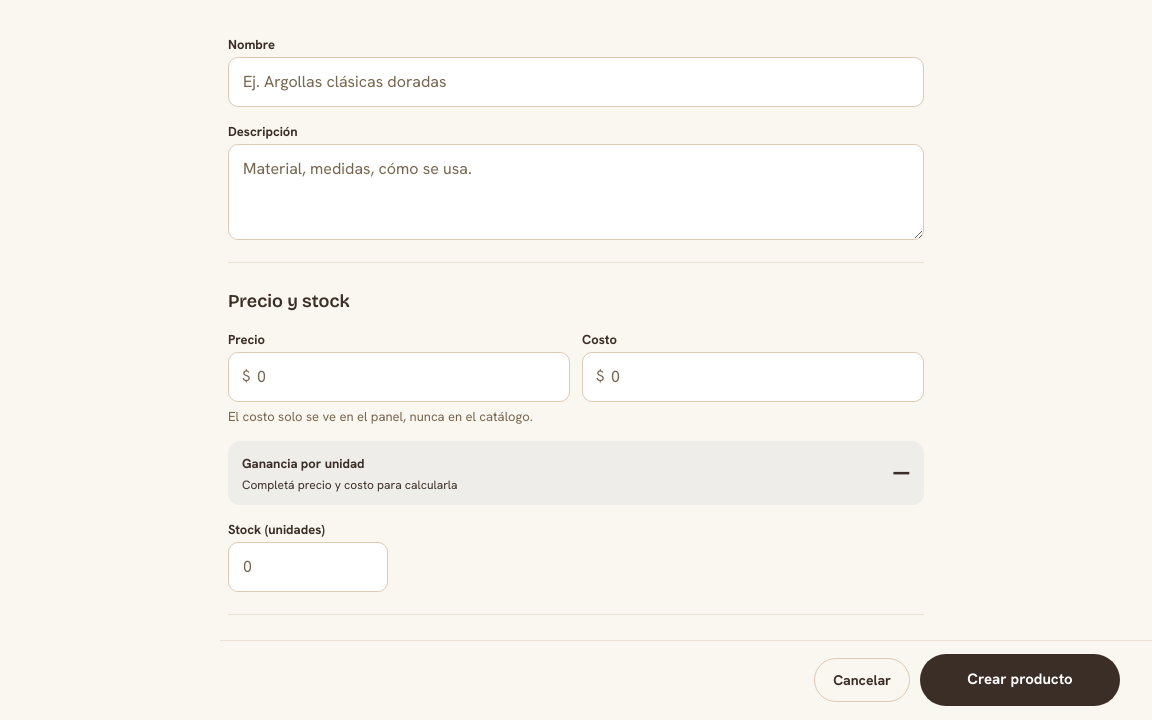
Test: ProductoFormPage › al crear vacío muestra los errores del prototipo y no guarda
Click the button "Crear producto".
click(1020, 680)  # box [920,654,1120,706]
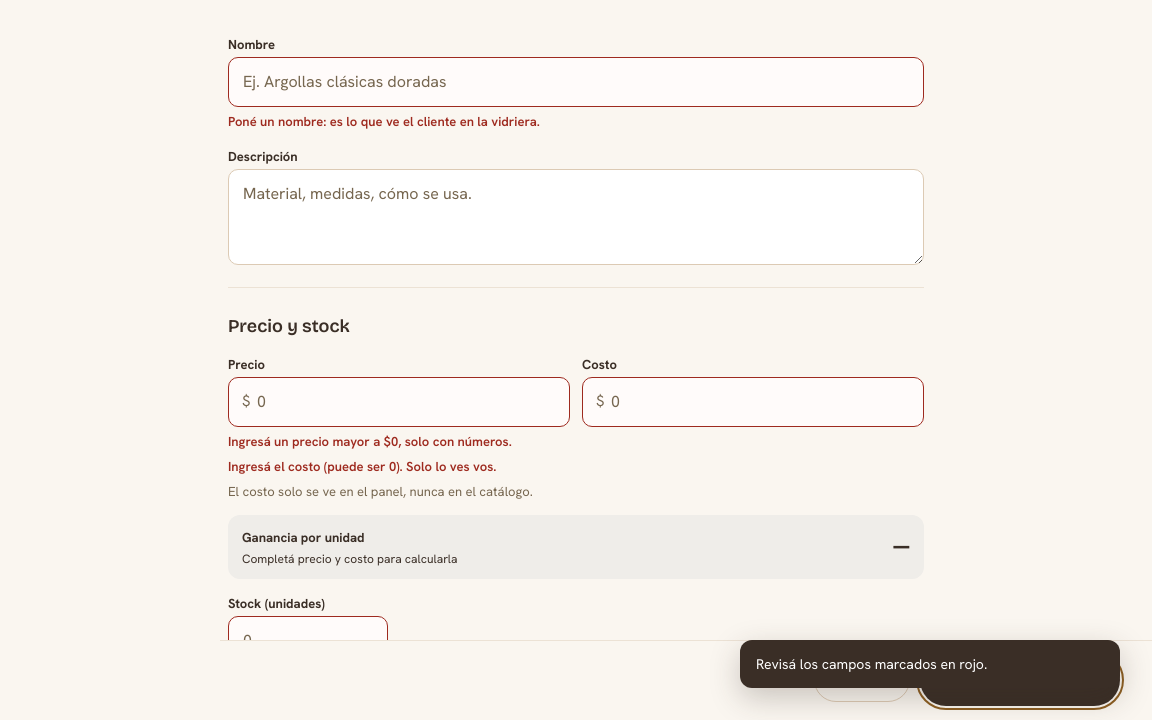
expect the text "Poné un nombre: es lo que ve el cliente en la vidriera." is shown: met, box [228,113,540,130]
expect the text "Ingresá un precio mayor a $0, solo con números." is shown: met, box [228,433,512,450]
expect the text "Ingresá el costo (puede ser 0). Solo lo ves vos." is shown: met, box [228,458,496,475]
